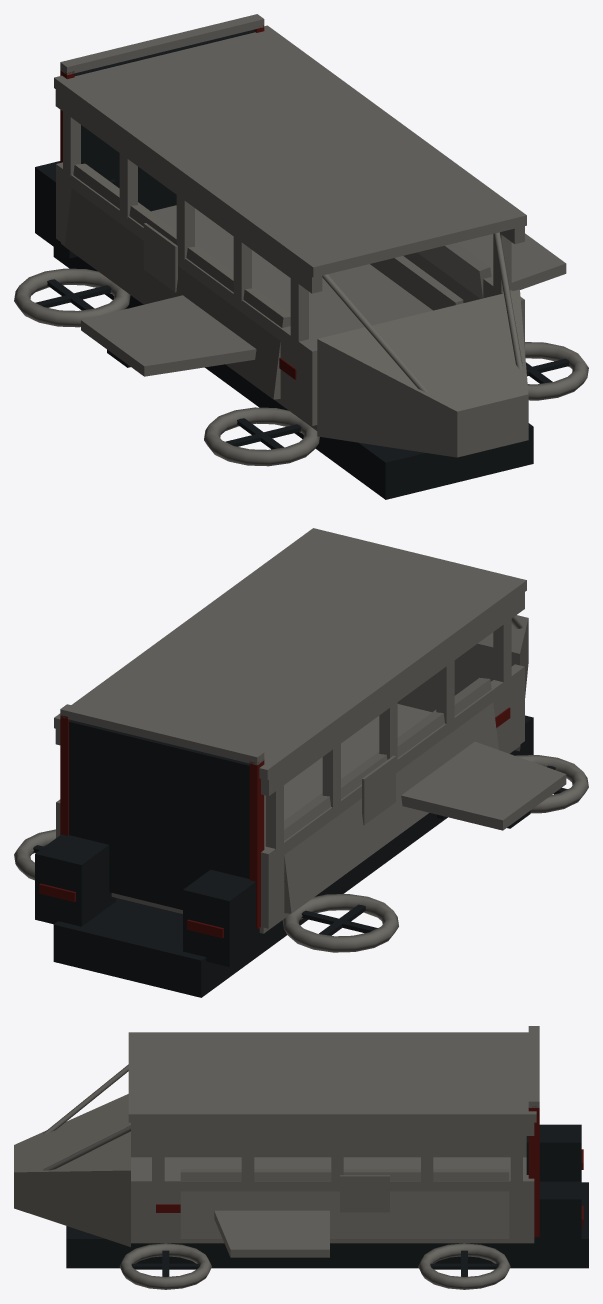
The picture shows the model from 3 angles, top to bottom: view 1: azimuth 30°, elevation 25°; view 2: azimuth 150°, elevation 25°; view 3: azimuth 270°, elevation 25°; orthographic projection. The views are drawn at different scales.
Parts seen in each view (by area): view 1: hover-transport-painted, transport-roof-painted, transport-ramp-painted, rotor-lift--1--3.1-fleet-machine, rotor-lift--1-2.9-fleet-machine; view 2: hover-transport-painted, transport-roof-painted, transport-ramp-painted, rotor-lift--1--3.1-fleet-machine; view 3: hover-transport-painted, transport-roof-painted, rotor-lift-1-2.9-fleet-machine, rotor-lift-1--3.1-fleet-machine.
Part boxes in pixels (bbox=[...]): hover-transport-painted: bbox=[14, 14, 588, 499]; transport-roof-painted: bbox=[54, 25, 526, 343]; transport-ramp-painted: bbox=[74, 30, 255, 211]; rotor-lift--1--3.1-fleet-machine: bbox=[35, 279, 111, 310]; rotor-lift--1-2.9-fleet-machine: bbox=[225, 418, 301, 449]; hover-transport-painted: bbox=[14, 615, 588, 997]; transport-roof-painted: bbox=[54, 528, 526, 850]; transport-ramp-painted: bbox=[69, 720, 249, 909]; rotor-lift--1--3.1-fleet-machine: bbox=[301, 904, 377, 935]; hover-transport-painted: bbox=[14, 1026, 588, 1289]; transport-roof-painted: bbox=[128, 1032, 536, 1182]; rotor-lift-1-2.9-fleet-machine: bbox=[131, 1250, 199, 1276]; rotor-lift-1--3.1-fleet-machine: bbox=[430, 1250, 498, 1276].
Bounding box in the file's own units: 42.11 × 21.33 × 63.16.
